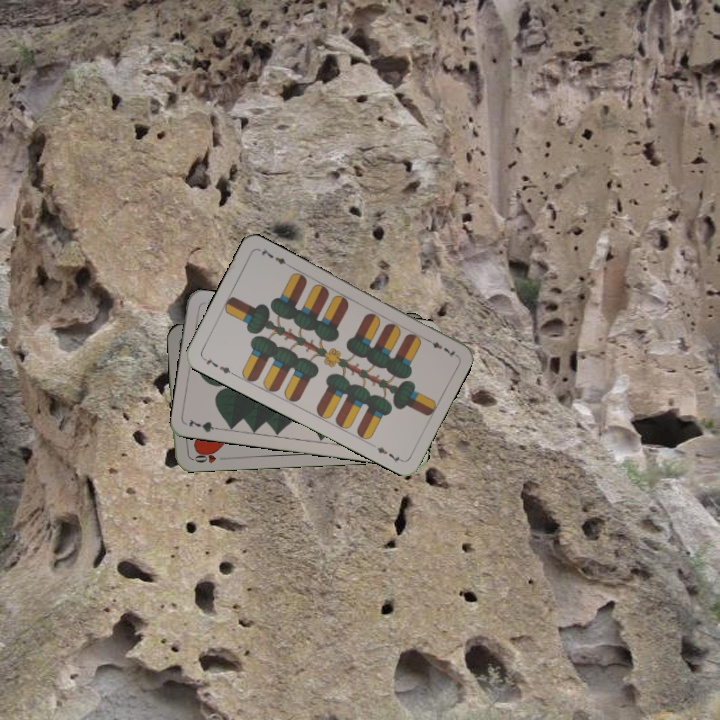E7: (421, 334, 458, 360), (199, 353, 237, 378)
G7: (185, 415, 225, 435)
HO: (187, 446, 228, 466)
